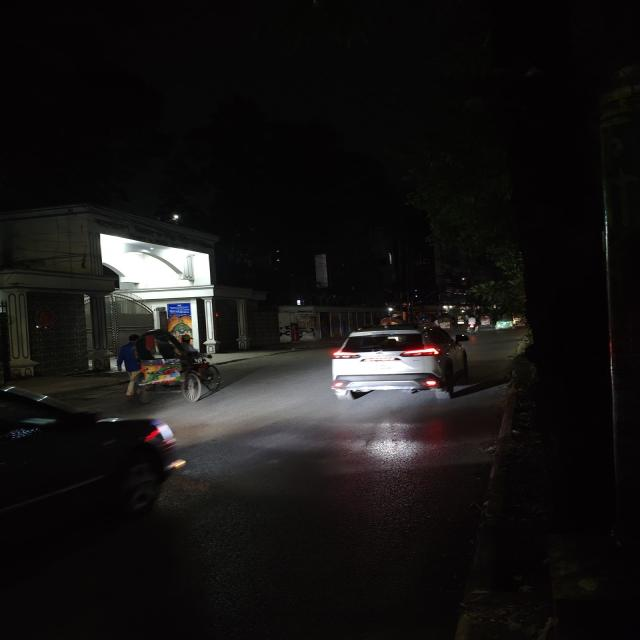car: (324, 324, 476, 406)
cng: (492, 310, 518, 334)
rickshaw: (120, 322, 230, 408)
